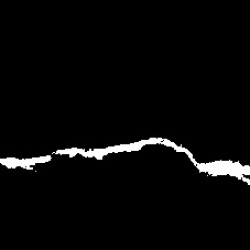crack: (2, 138, 248, 181)
